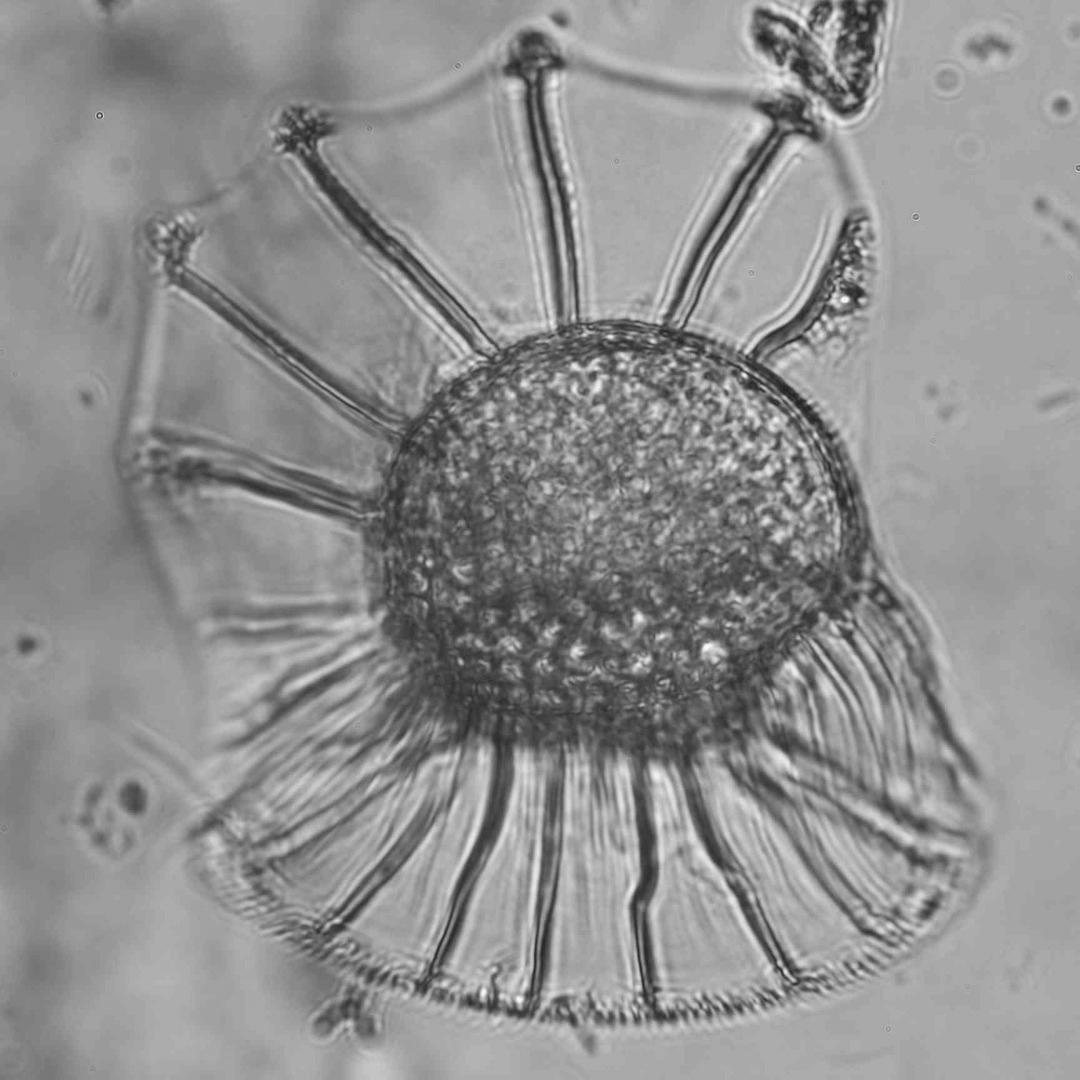ornithocercus_thumii: (121, 22, 997, 1029)
